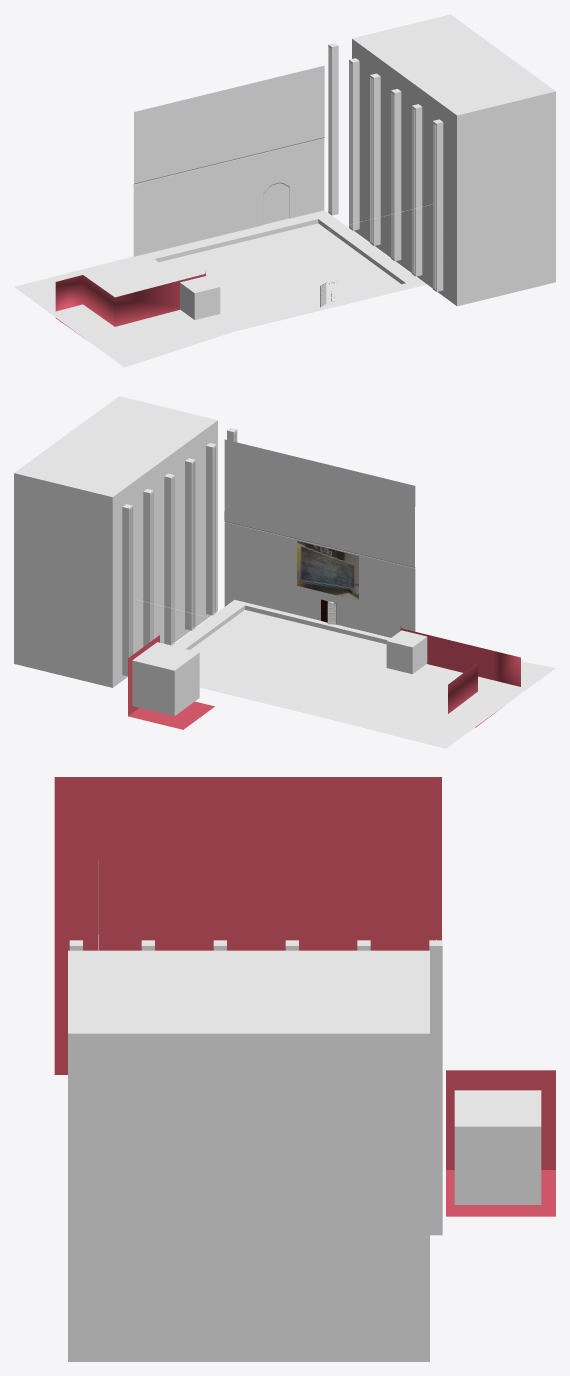
The model's file is about3_015.glb.
3 views of the same model, one above another, from view 1: azimuth 30°, elevation 25°; view 2: azimuth 150°, elevation 25°; view 3: azimuth 270°, elevation 25° (orthographic). The views are drawn at different scales.
Visible parts, largest first — view 1: LinkProjects, Plane.006, Plane.005, Cube.002, Plane.011, LinkPeople, LinkBibliography; view 2: LinkProjects, Plane.010, Plane.005, Cube.002, LinkBibliography, Plane.011, Picture, Cube.001, LinkPeople; view 3: LinkProjects, Plane.011, LinkBibliography, Cube.001, Cube.002.
Part boxes in pixels (x1,y1,x2,y2): LinkProjects: [352, 14, 555, 306]; Plane.006: [133, 65, 324, 256]; Plane.005: [14, 210, 425, 367]; Cube.002: [328, 43, 443, 291]; Plane.011: [55, 271, 205, 338]; LinkPeople: [180, 276, 220, 319]; LinkBibliography: [263, 183, 288, 224]; LinkProjects: [14, 396, 217, 687]; Plane.010: [224, 439, 415, 637]; Plane.005: [172, 599, 555, 748]; Cube.002: [122, 427, 237, 676]; LinkBibliography: [132, 642, 199, 716]; Plane.011: [400, 626, 520, 727]; Picture: [297, 541, 358, 600]; Cube.001: [128, 635, 214, 729]; LinkPeople: [386, 630, 427, 674]; LinkProjects: [68, 950, 429, 1361]; Plane.011: [54, 777, 441, 1074]; LinkBibliography: [454, 1090, 541, 1204]; Cube.001: [446, 1070, 555, 1216]; Cube.002: [69, 940, 442, 1235].
Size of the model in its own units: 130 by 54.4 by 81.41.
8 materials, 1 textured.
